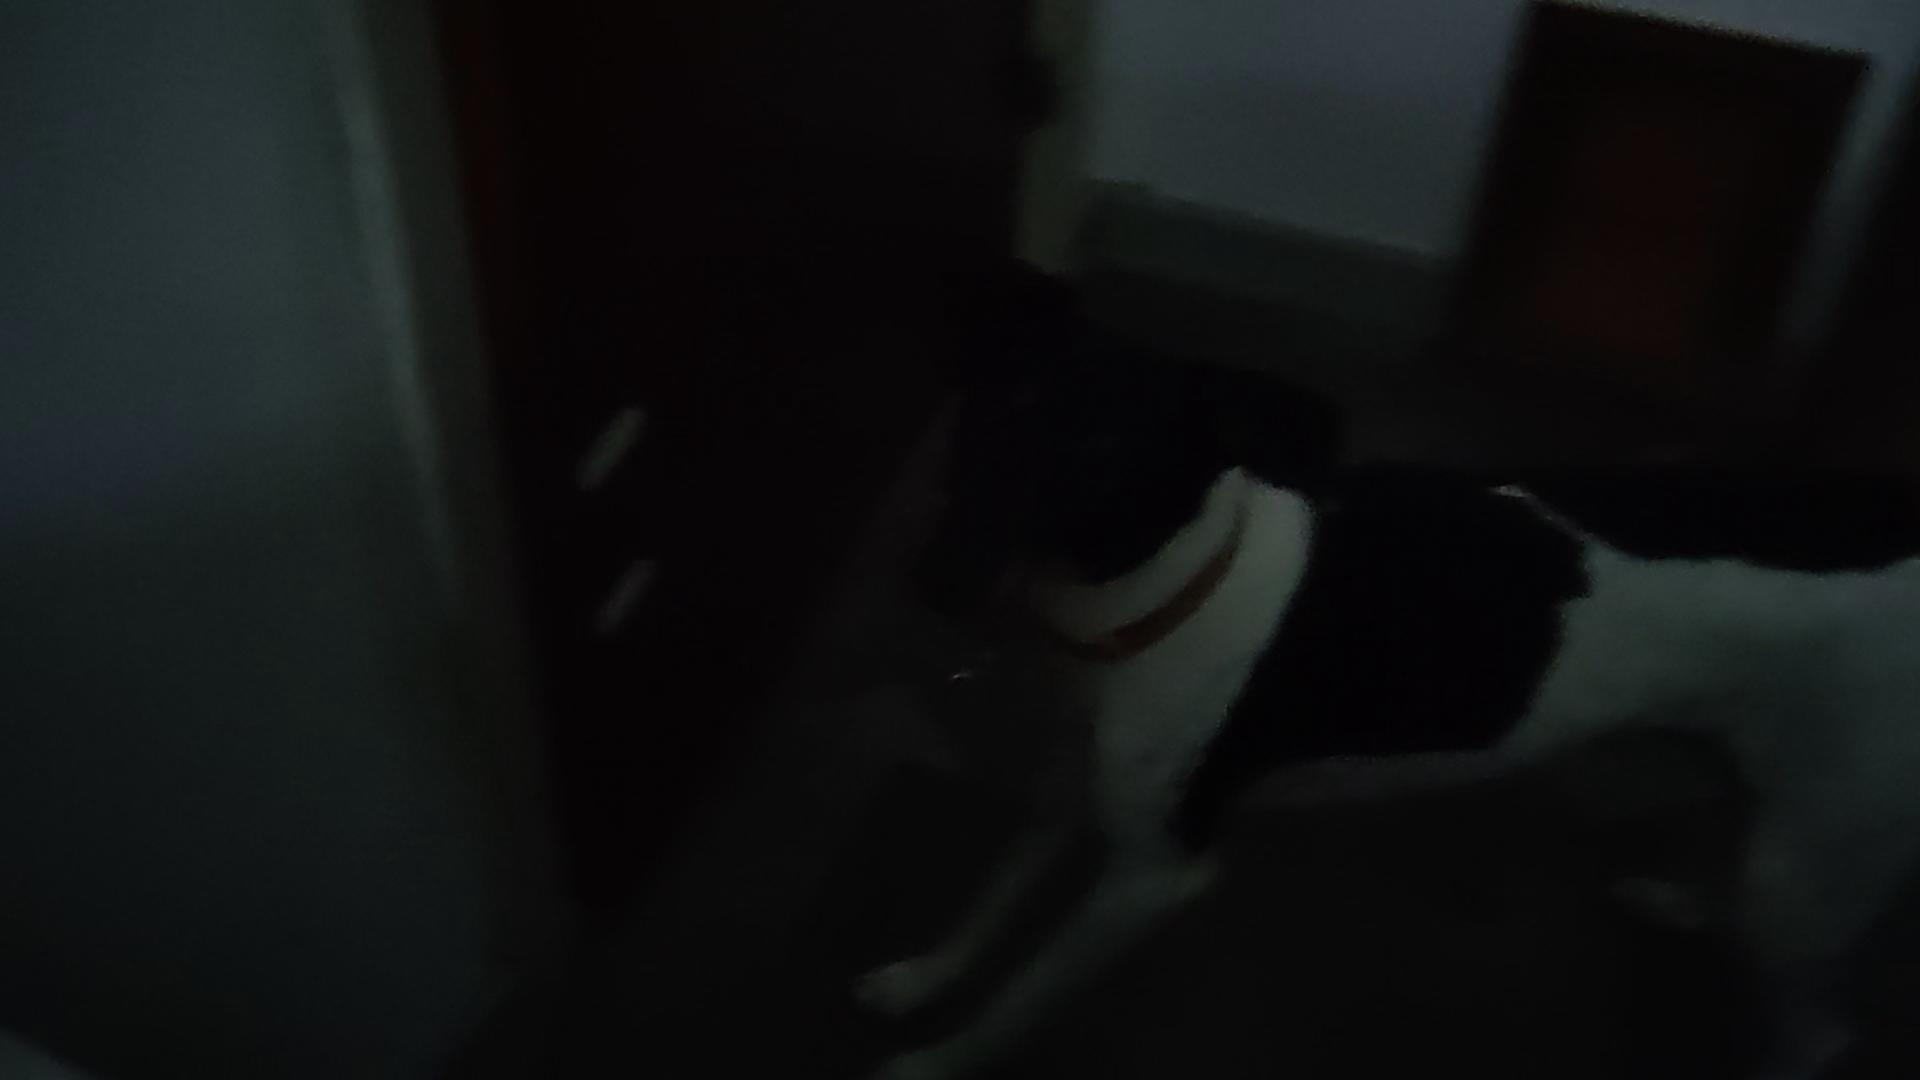Dog: (833, 244, 1919, 1079)
